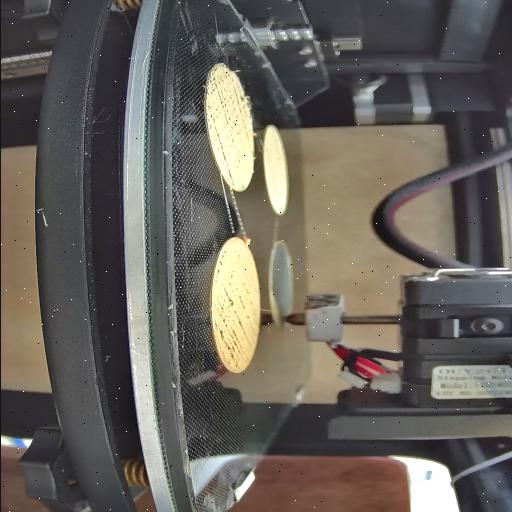under_extrusion: (215, 248, 251, 366), (205, 72, 245, 150), (218, 150, 239, 185)
